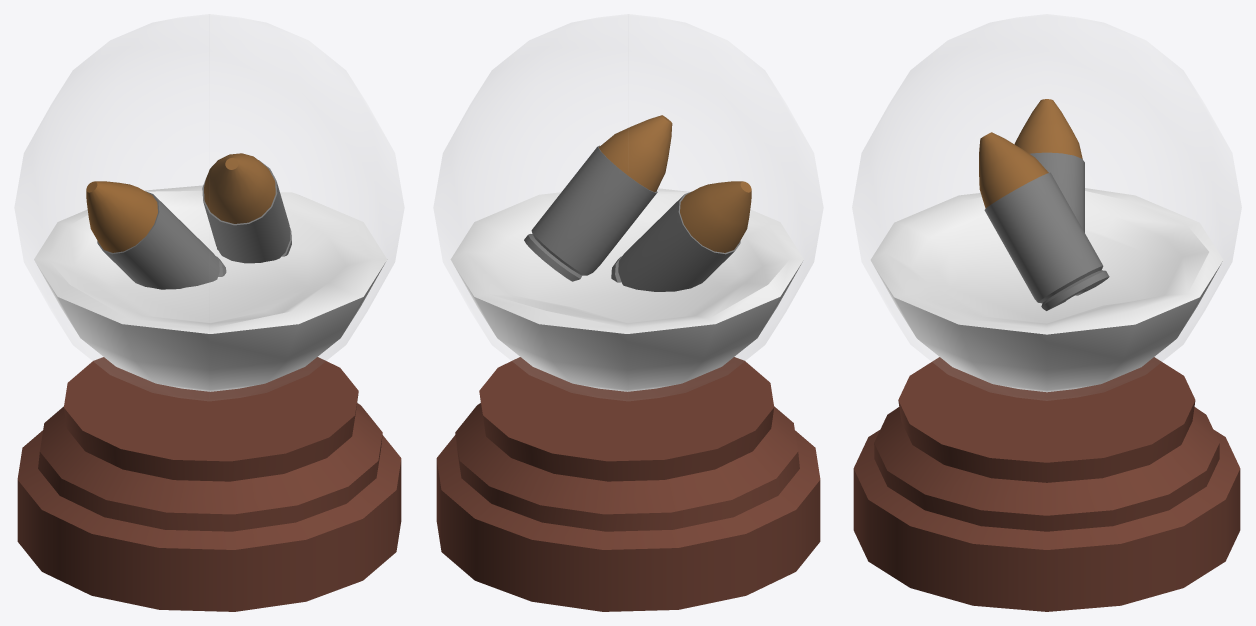
Rendered from BulletGlobe-1.glb.
3 views of the same model, side by side, from view 1: azimuth 30°, elevation 25°; view 2: azimuth 150°, elevation 25°; view 3: azimuth 270°, elevation 25° (orthographic).
Parts seen in each view (by area): view 1: SnowGlobeBase, SnowGlobe, SnowInSnowGlobe, Bullet-1, Bullet-2; view 2: SnowGlobeBase, SnowGlobe, SnowInSnowGlobe, Bullet-2, Bullet-1; view 3: SnowGlobeBase, SnowGlobe, SnowInSnowGlobe, Bullet-2, Bullet-1.
Boxes of the visible parts, x1,y1,x2,y2 form: SnowGlobeBase: [17, 357, 401, 611]; SnowGlobe: [15, 14, 403, 400]; SnowInSnowGlobe: [34, 185, 387, 391]; Bullet-1: [86, 181, 226, 289]; Bullet-2: [202, 153, 291, 263]; SnowGlobeBase: [436, 357, 820, 611]; SnowGlobe: [434, 14, 822, 400]; SnowInSnowGlobe: [450, 188, 803, 391]; Bullet-2: [524, 115, 672, 281]; Bullet-1: [611, 181, 751, 291]; SnowGlobeBase: [853, 357, 1240, 611]; SnowGlobe: [852, 14, 1241, 400]; SnowInSnowGlobe: [870, 188, 1223, 392]; Bullet-2: [979, 132, 1109, 310]; Bullet-1: [1014, 99, 1084, 232].
Size of the model in its own units: 0.2016 by 0.2849 by 0.2016.
